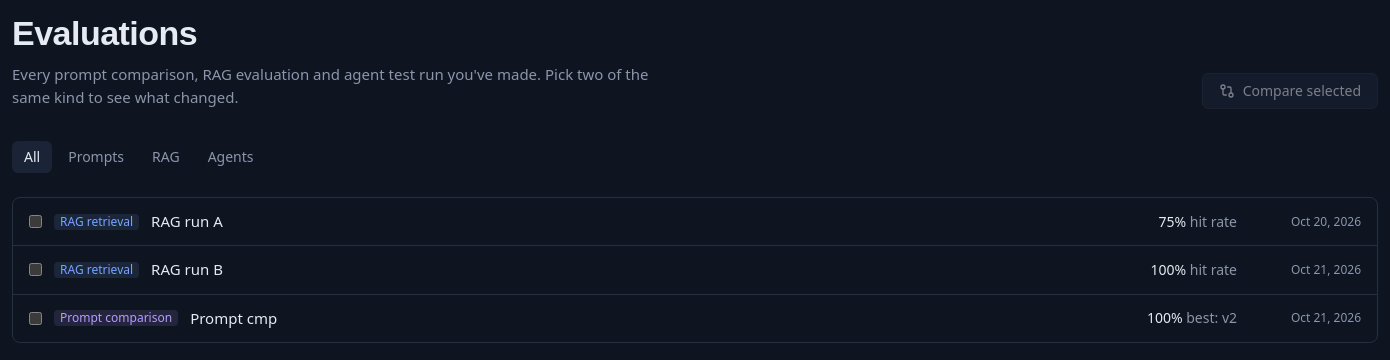
Test: Evaluations › only lets you compare two evaluations of the same kind
Step 1. Click the checkbox named "Select RAG run A" → (36, 222), box [29, 215, 42, 228]
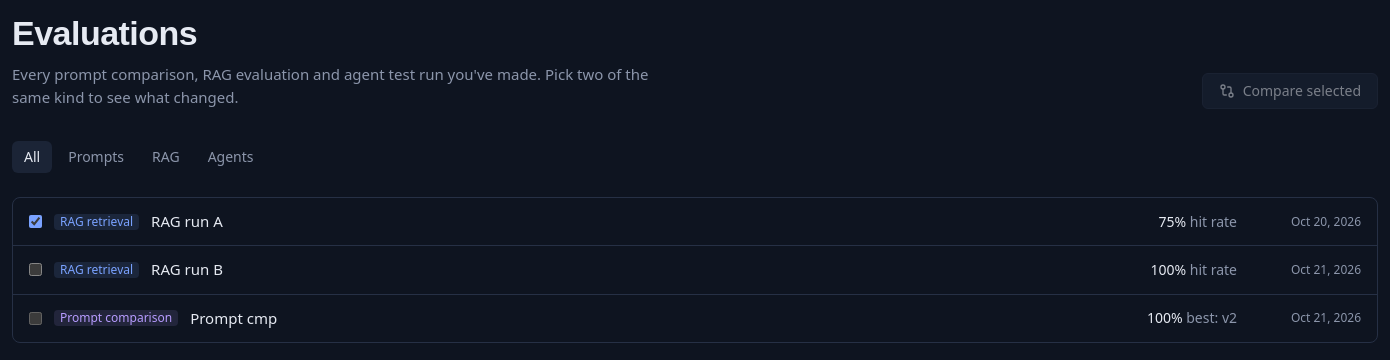
Expected: the button "Compare selected" is disabled, [1202, 73, 1378, 109]
Expected: the checkbox named "Select Prompt cmp" is disabled, [29, 312, 42, 325]
Step 2. Click the checkbox named "Select RAG run B" → (36, 270), box [29, 263, 42, 276]
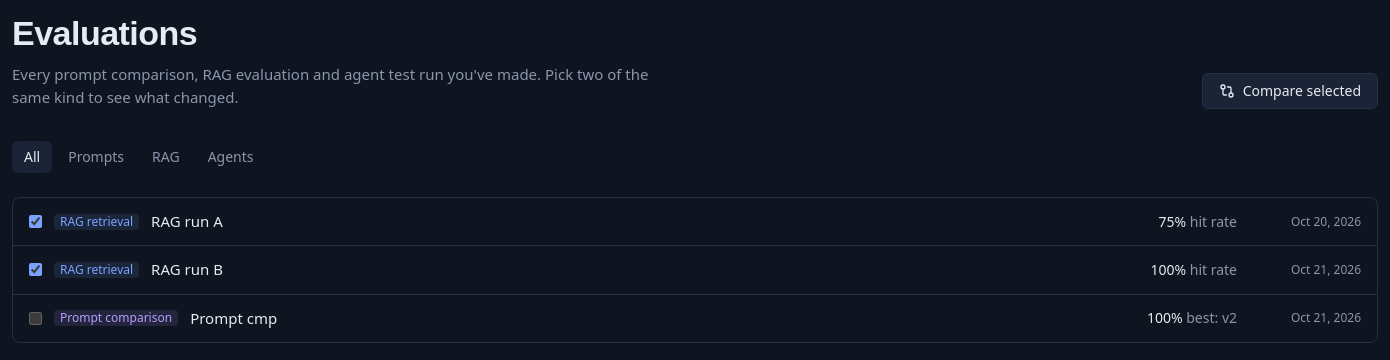
Expected: the text "75%" is shown, [1158, 212, 1186, 231]
Expected: the button "Compare selected" is enabled, [1202, 73, 1378, 109]
